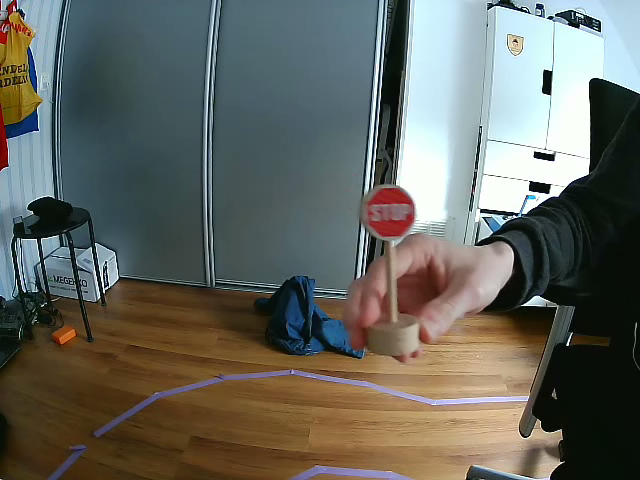stopbord: (365, 186, 418, 241)
